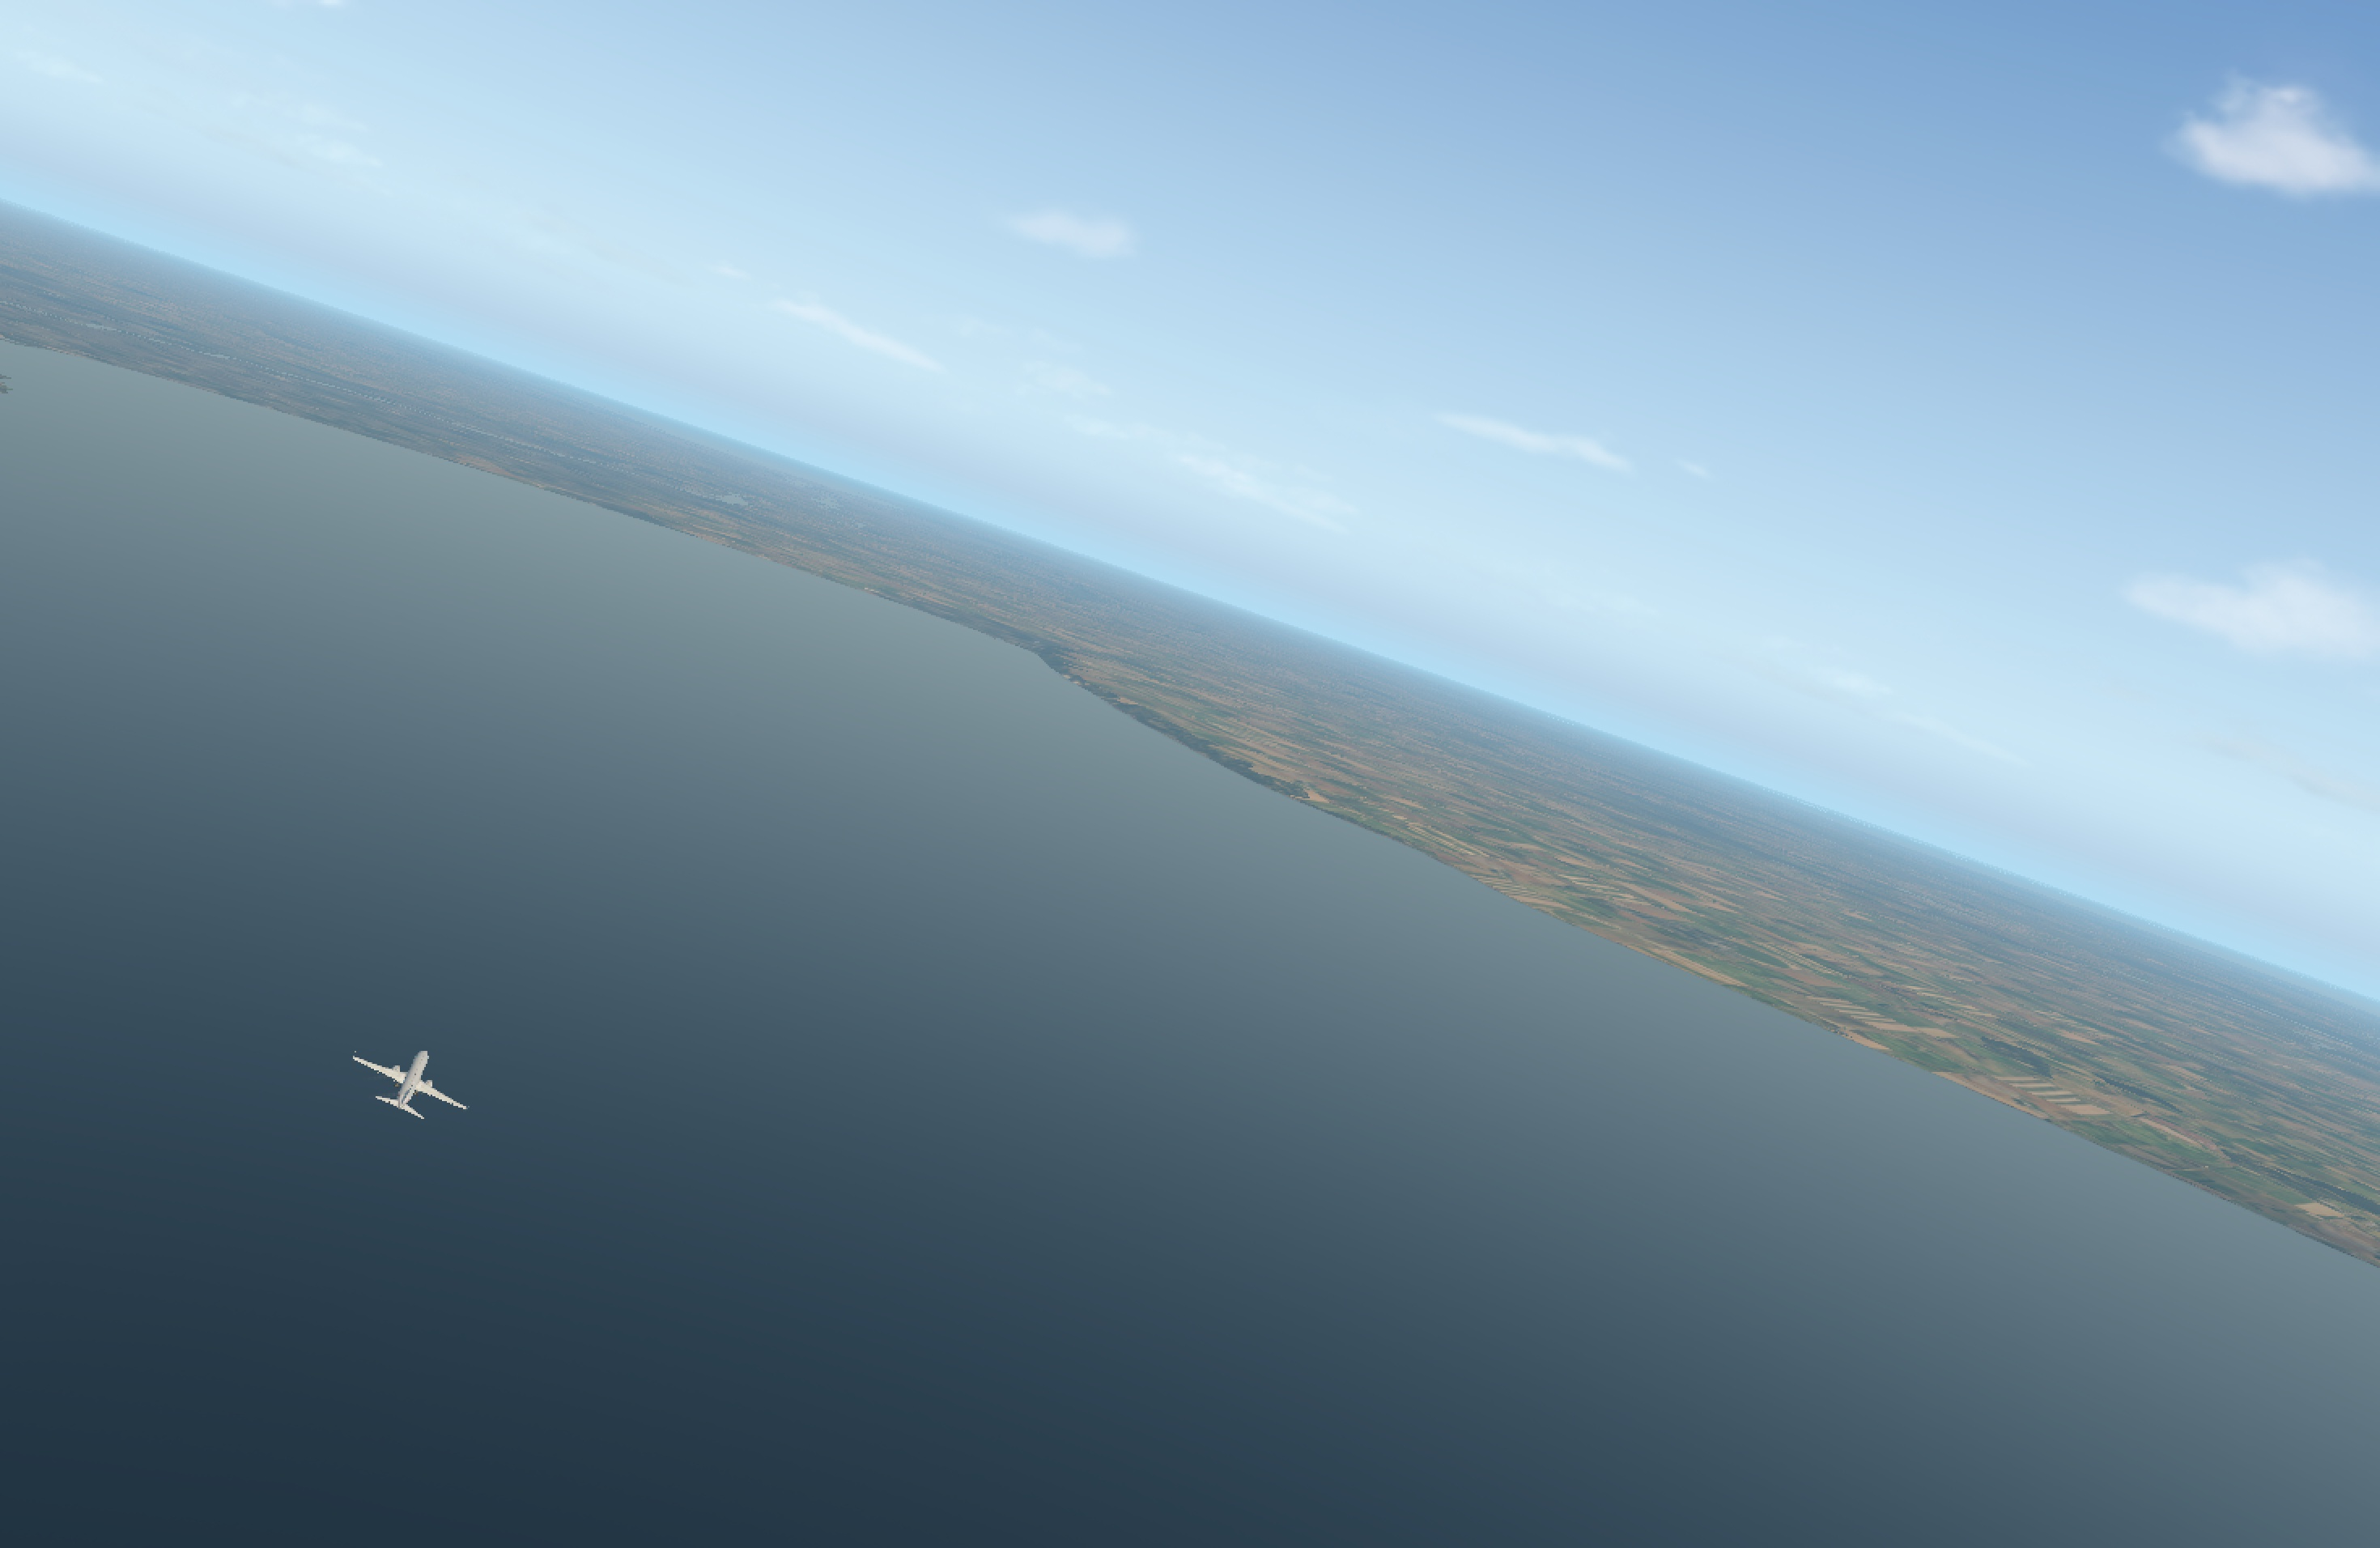aircraft: (347, 1057, 475, 1104)
